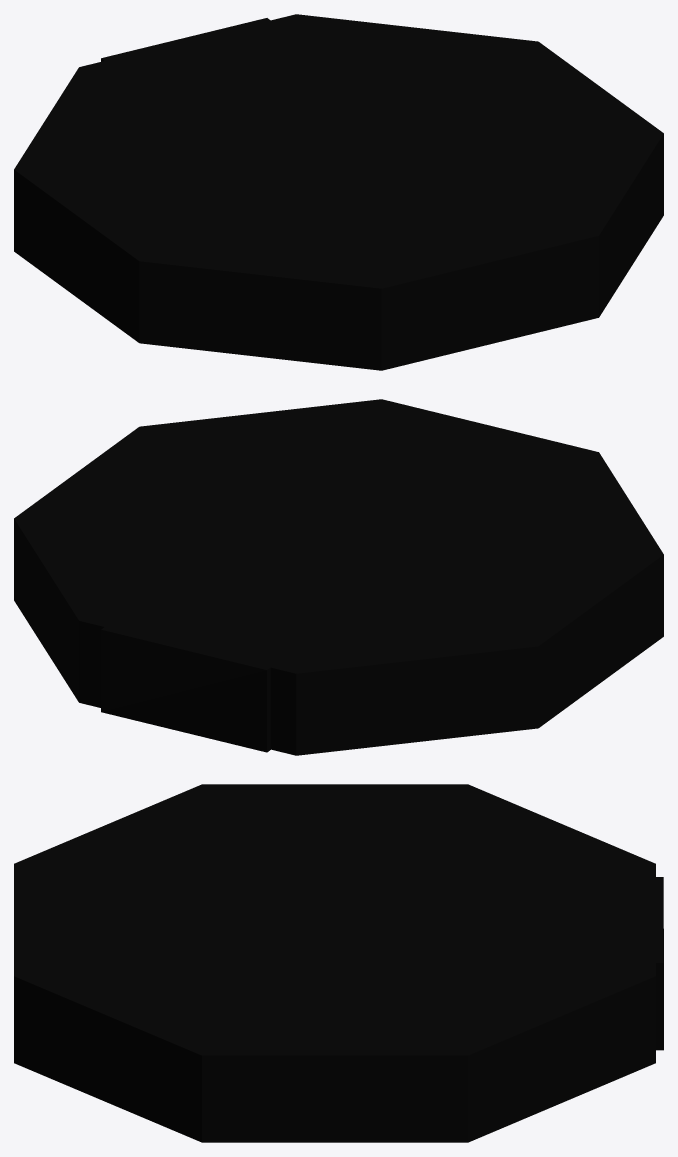
Rendered from Itr_Trashcan4_Cap_03.FBX.
The picture shows the model from 3 angles, top to bottom: view 1: azimuth 30°, elevation 25°; view 2: azimuth 150°, elevation 25°; view 3: azimuth 270°, elevation 25°; orthographic projection. The views are drawn at different scales.
Visible parts, largest first — view 1: Itr_Trashcan4_Cap_03; view 2: Itr_Trashcan4_Cap_03; view 3: Itr_Trashcan4_Cap_03.
Boxes of the visible parts, x1,y1,x2,y2 form: Itr_Trashcan4_Cap_03: [14, 14, 663, 370]; Itr_Trashcan4_Cap_03: [14, 399, 663, 755]; Itr_Trashcan4_Cap_03: [14, 784, 663, 1142].
Bounding box in the file's own units: 12.01 × 1.8 × 12.15.
